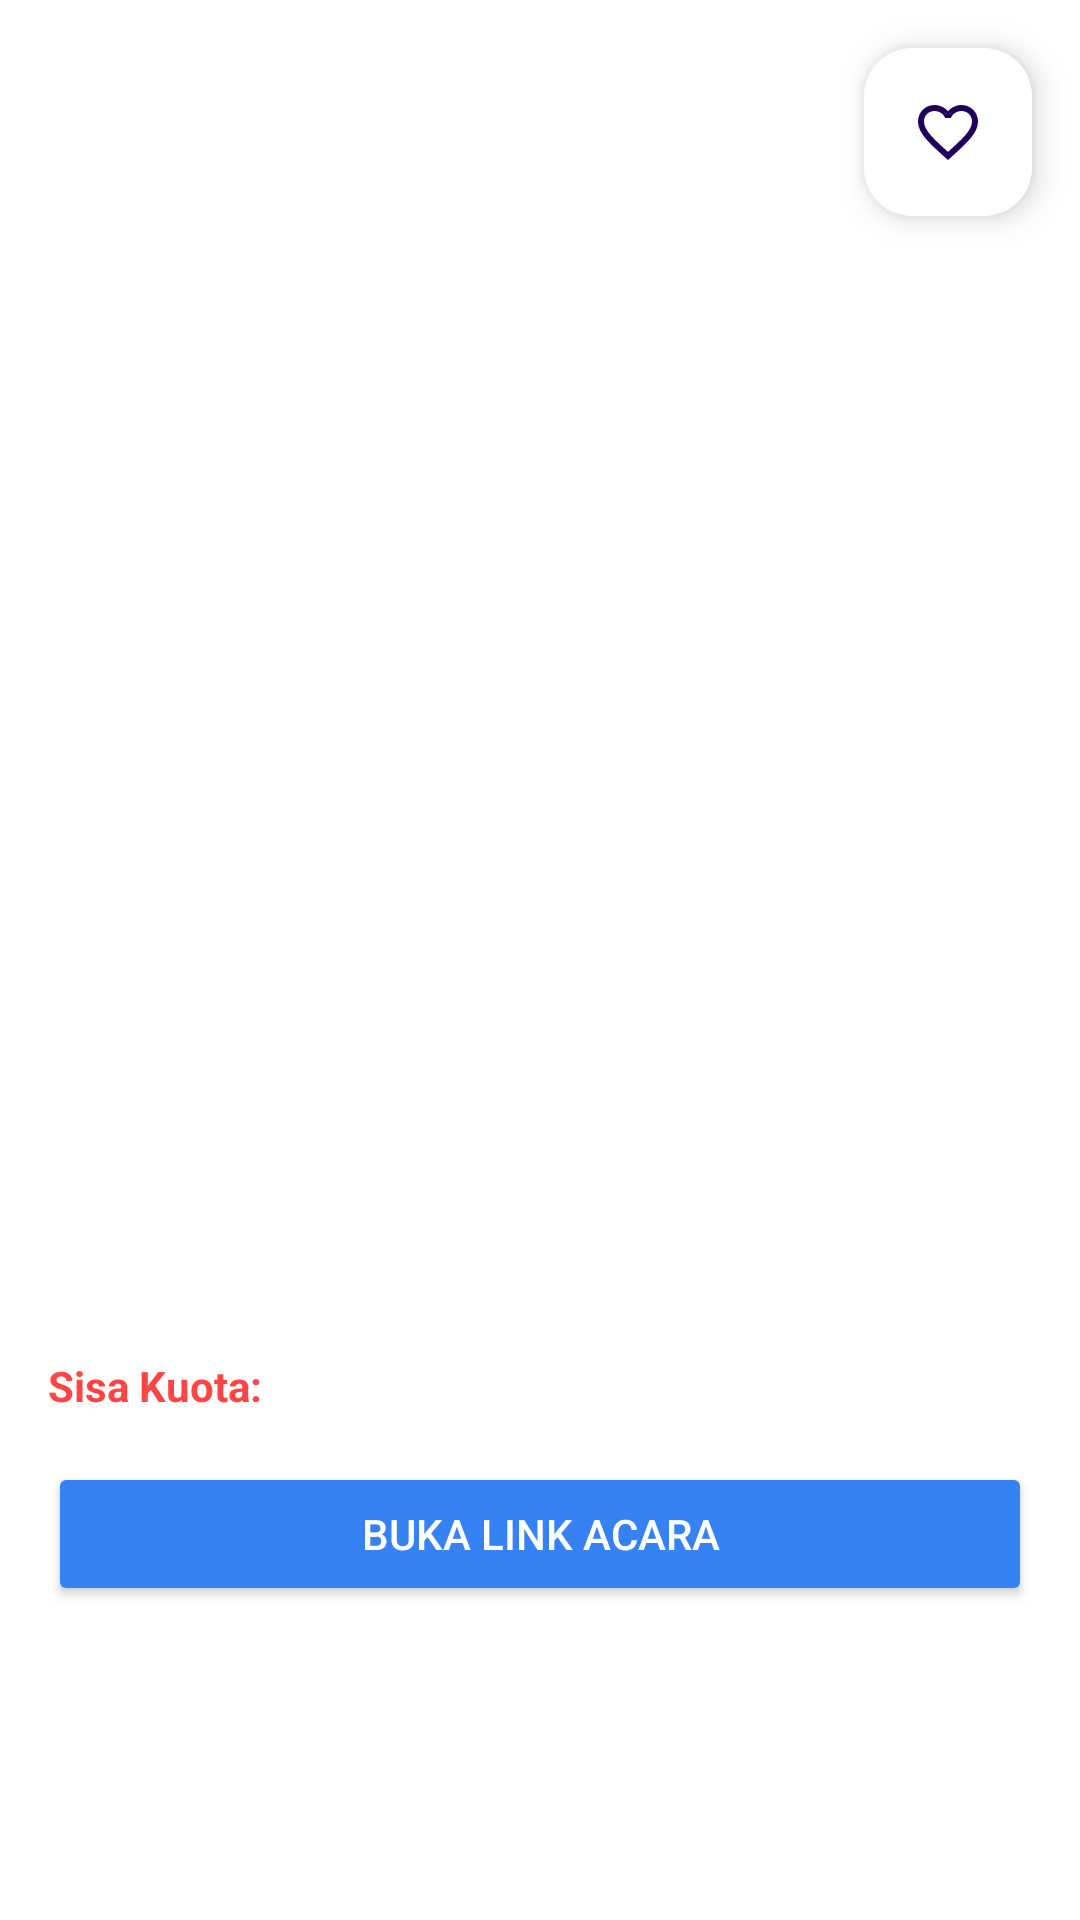

Named icons in this screenshot (1080×1920) and their centers, point (x, y):
Tombol Favorit: point (967, 133)
